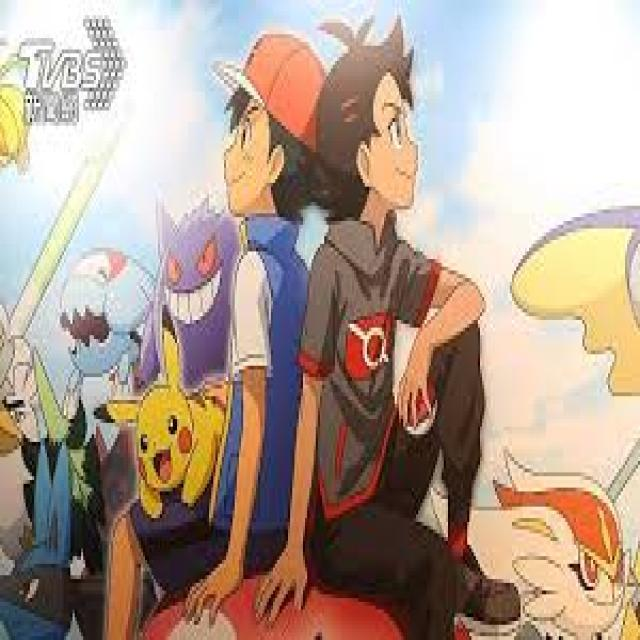Gengar: (147, 193, 240, 374)
Pikachu: (132, 380, 224, 500)
